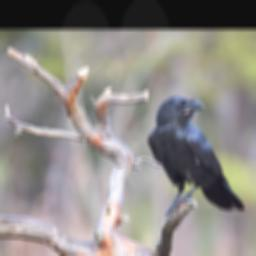Crow: (147, 95, 248, 216)
